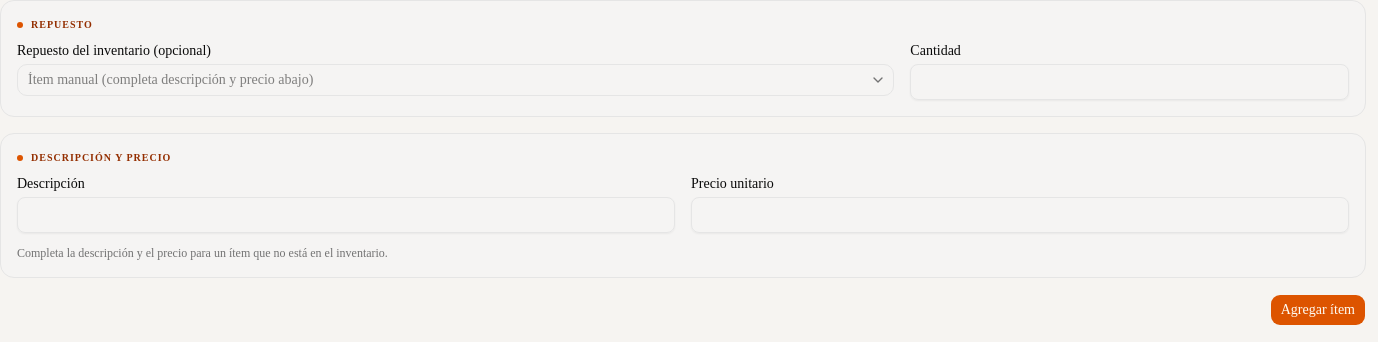
Scenario: AgregarItemForm › renders the repuesto select alongside the manual fields
Click the dropdown labelled "Repuesto del inventario (opcional)". click: (456, 80)
box: [17,64,894,96]
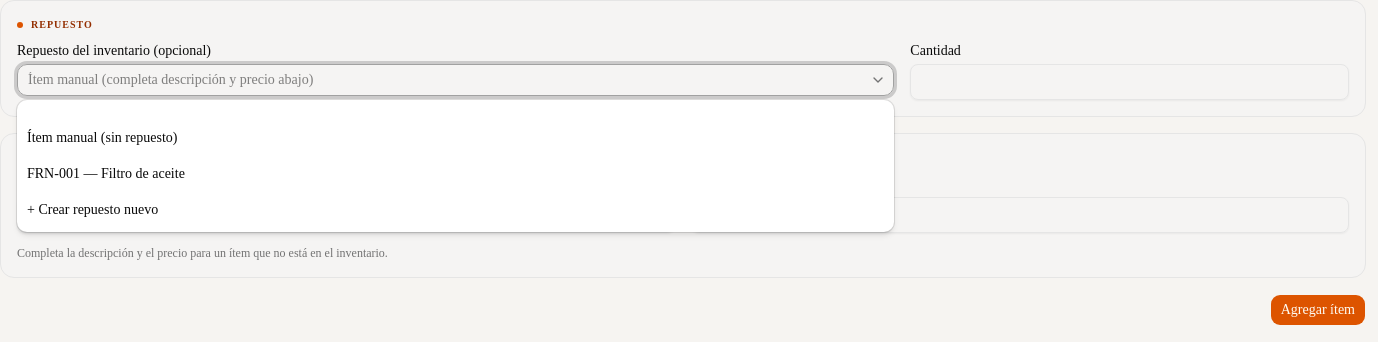
Expected: the field labelled "Descripción" is shown, [17,197,675,233]
Expected: the option "FRN-001 — Filtro de aceite" is shown, [27,166,185,181]
